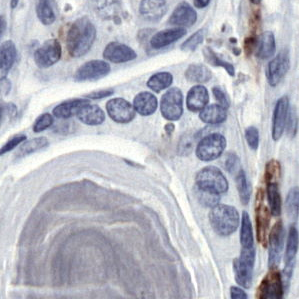Lymphocyte: (251, 184, 273, 248)
